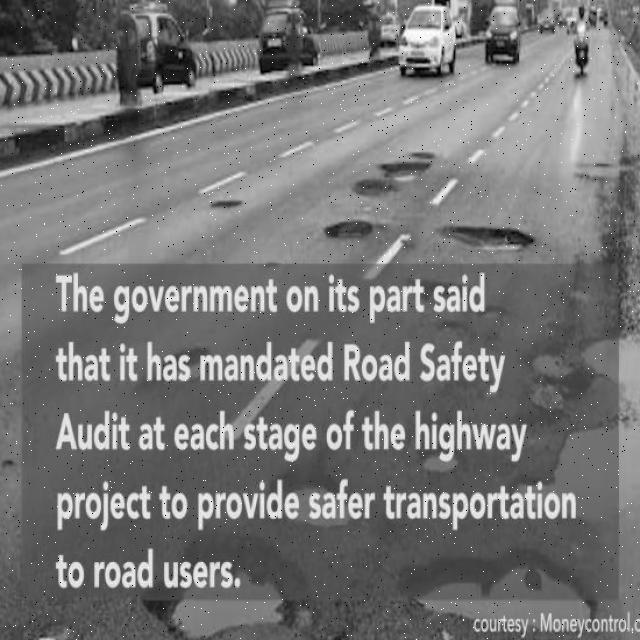pothole: (145, 535, 304, 640), (401, 552, 595, 634), (512, 425, 640, 523), (577, 327, 640, 401), (445, 219, 532, 255), (156, 343, 220, 389), (387, 161, 435, 185), (422, 447, 457, 474), (330, 220, 366, 241), (213, 192, 250, 212), (358, 176, 397, 194)
